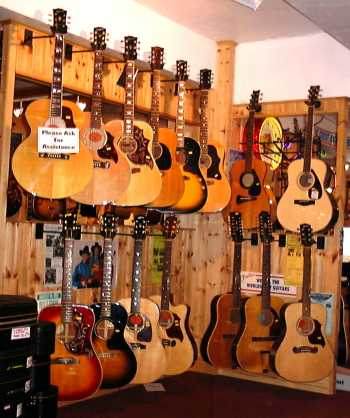guitar: (11, 5, 95, 197), (38, 211, 103, 400), (97, 35, 164, 206), (68, 26, 130, 206), (270, 221, 337, 384), (277, 79, 334, 236), (132, 45, 186, 210), (86, 210, 136, 388), (234, 210, 283, 375), (118, 216, 165, 384), (153, 215, 198, 379), (223, 89, 274, 230), (164, 60, 209, 213), (202, 212, 245, 369), (186, 68, 231, 215)
